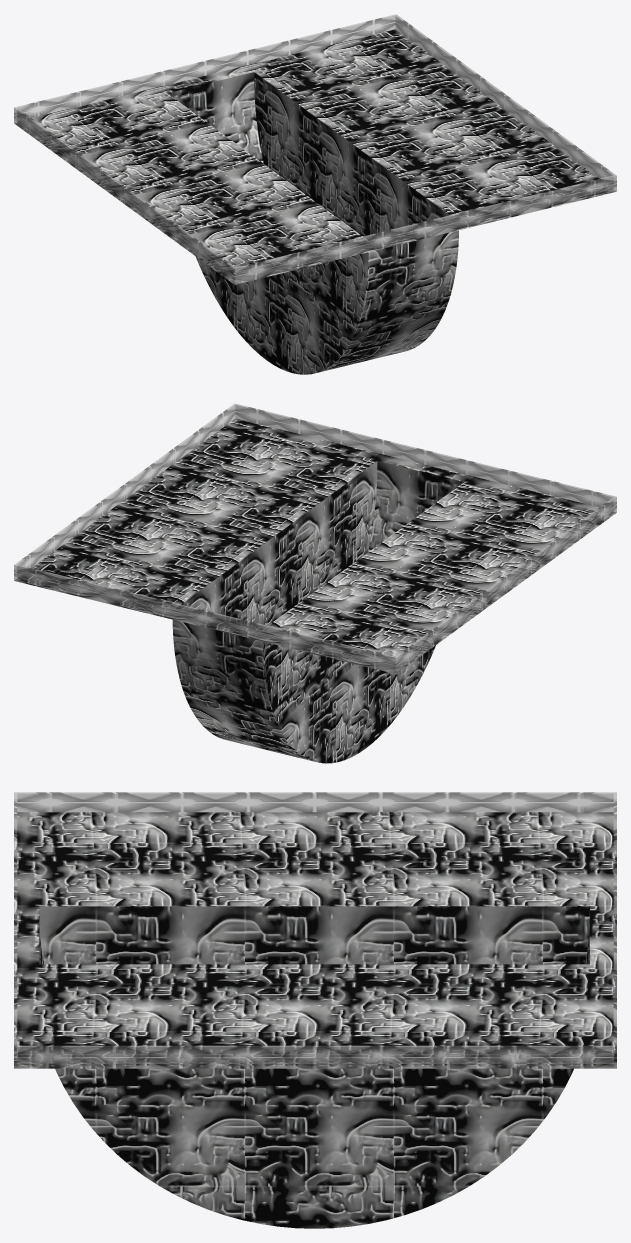
File: bounce.gltf
The picture shows the model from 3 angles, top to bottom: view 1: azimuth 30°, elevation 25°; view 2: azimuth 150°, elevation 25°; view 3: azimuth 270°, elevation 25°; orthographic projection. The views are drawn at different scales.
Visible parts, largest first — view 1: Plane-col; view 2: Plane-col; view 3: Plane-col.
Boxes of the visible parts, bbox=[...] form: Plane-col: bbox=[14, 14, 616, 374]; Plane-col: bbox=[14, 403, 616, 763]; Plane-col: bbox=[14, 792, 616, 1228].
Bounding box in the file's own units: 73.02 × 37.66 × 73.02.
Materials: 2 (2 with a texture image).
